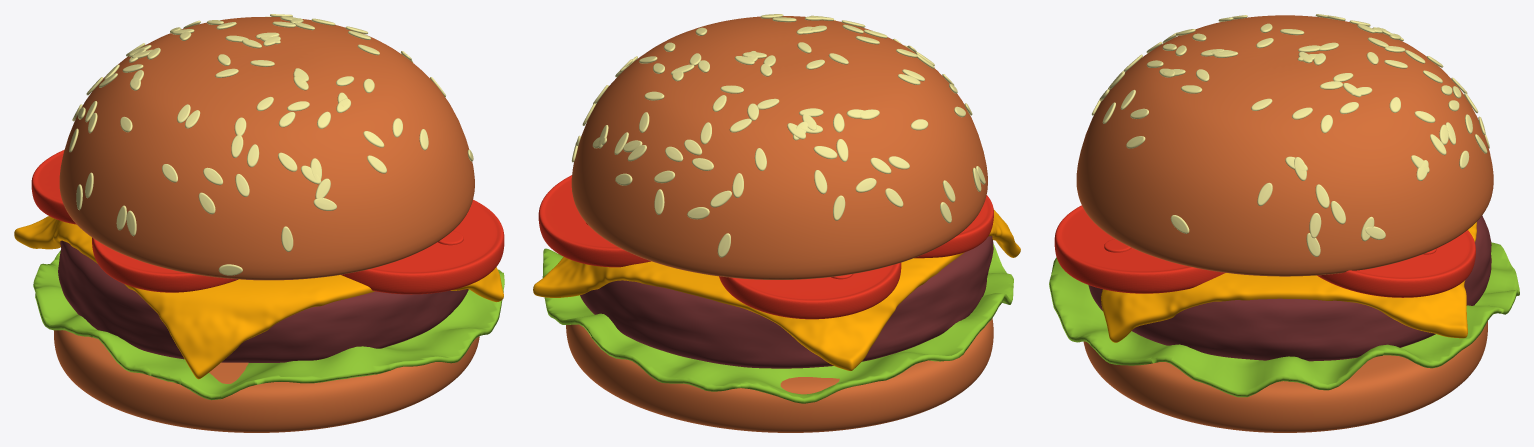
The model's file is uploads_files_3998079_burger_3.fbx.
The picture shows the model from 3 angles, left to right: view 1: azimuth 30°, elevation 25°; view 2: azimuth 150°, elevation 25°; view 3: azimuth 270°, elevation 25°; orthographic projection.
Visible parts, largest first — view 1: bred up.001, bred down.001, meat.001, green .002, Plane.003, tomato.004, tomato.005, tomato.006; view 2: bred up.001, meat.001, bred down.001, green .002, Plane.003, tomato.006, tomato.007, tomato.005; view 3: bred up.001, bred down.001, meat.001, green .002, Plane.003, tomato.004, tomato.007.
Part boxes in pixels (<box>): bred up.001: <box>59,14,474,280</box>; bred down.001: <box>54,330,479,432</box>; meat.001: <box>58,240,468,362</box>; green .002: <box>33,250,504,400</box>; Plane.003: <box>14,216,503,379</box>; tomato.004: <box>341,199,504,294</box>; tomato.005: <box>92,237,238,292</box>; tomato.006: <box>31,150,76,224</box>; bred up.001: <box>571,14,987,279</box>; meat.001: <box>580,236,993,368</box>; bred down.001: <box>566,318,993,432</box>; green .002: <box>542,243,1013,403</box>; Plane.003: <box>533,209,1020,370</box>; tomato.006: <box>719,262,901,319</box>; tomato.007: <box>538,175,650,267</box>; tomato.005: <box>914,195,993,258</box>; bred up.001: <box>1076,14,1493,276</box>; bred down.001: <box>1083,321,1487,432</box>; meat.001: <box>1088,215,1491,361</box>; green .002: <box>1049,242,1519,397</box>; Plane.003: <box>1101,222,1476,342</box>; tomato.004: <box>1054,205,1225,293</box>; tomato.007: <box>1317,230,1475,297</box>.
Size of the model in its own units: 271 by 190 by 273.
